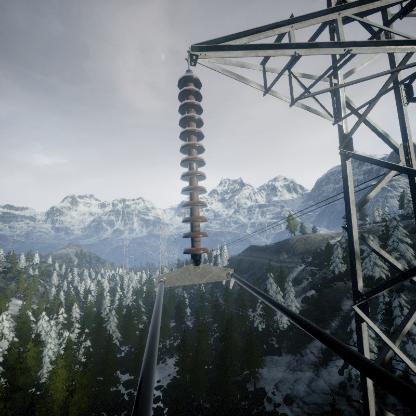insulator: (175, 68, 211, 265)
